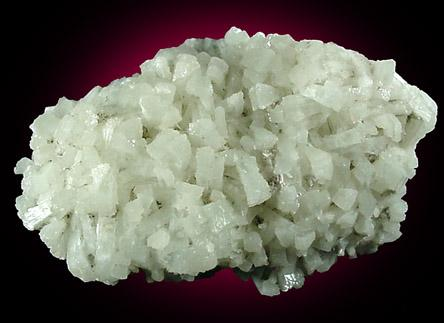prehnite: (13, 28, 437, 297)
silver: (0, 1, 444, 323)
